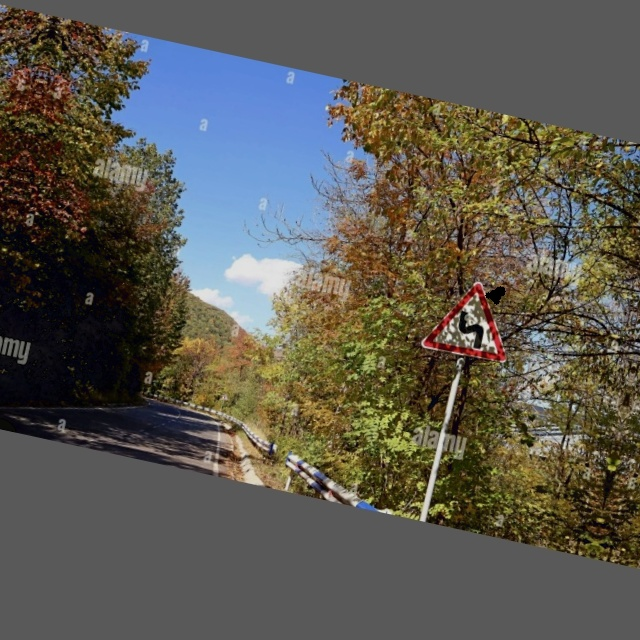Left_Reverse_Bend: (418, 269, 521, 371)
